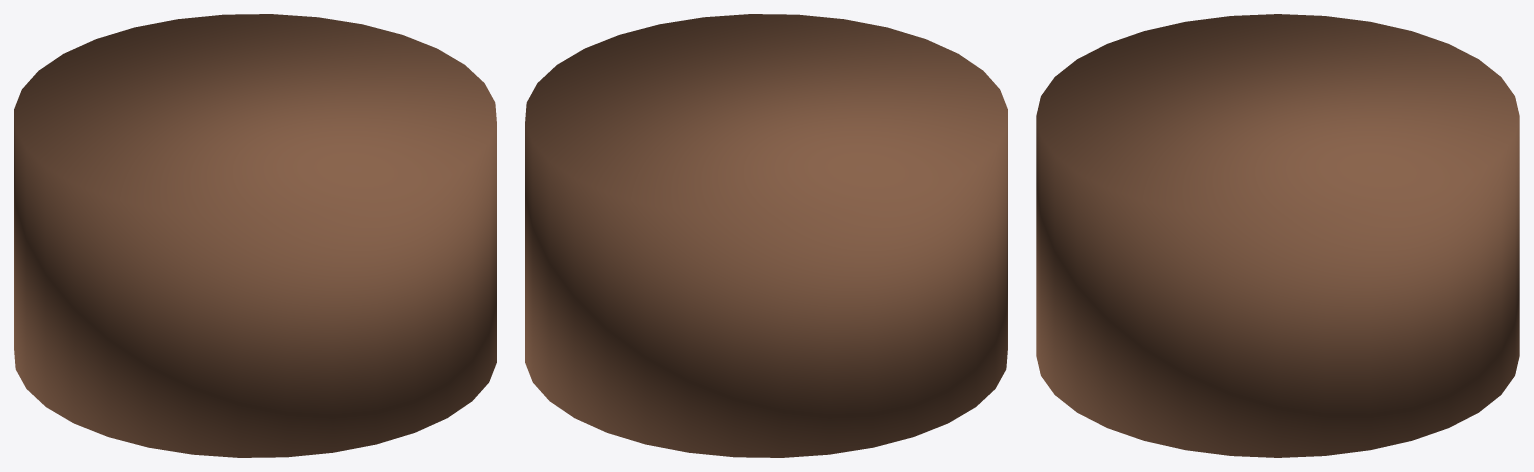
Rendered from tronco3.fbx.
3 views of the same model, side by side, from view 1: azimuth 30°, elevation 25°; view 2: azimuth 150°, elevation 25°; view 3: azimuth 270°, elevation 25° (orthographic).
Visible parts, largest first — view 1: Cylinder.005; view 2: Cylinder.005; view 3: Cylinder.005.
Boxes of the visible parts, x1,y1,x2,y2 form: Cylinder.005: [14, 14, 496, 457]; Cylinder.005: [525, 14, 1007, 457]; Cylinder.005: [1036, 14, 1519, 457].
Bounding box in the file's own units: 722 × 395 × 722.
